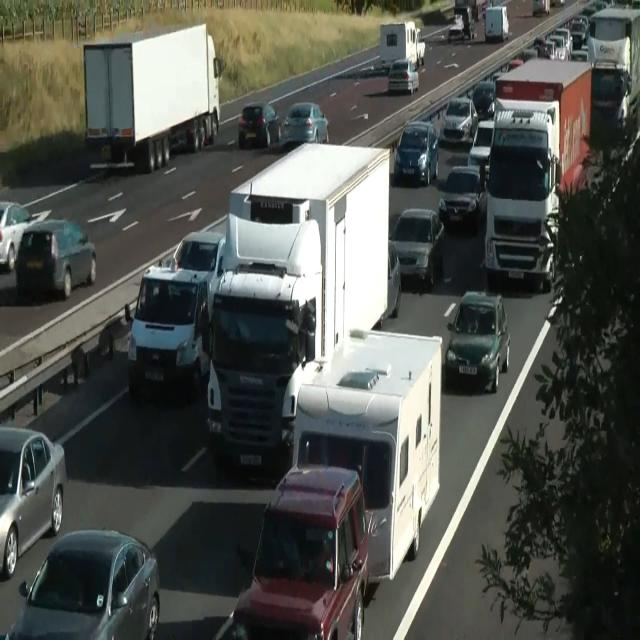bus: (5, 528, 161, 639), (0, 425, 67, 579), (444, 290, 510, 393), (389, 207, 445, 288), (0, 200, 51, 272), (438, 165, 486, 228), (394, 120, 438, 186), (280, 101, 329, 144), (237, 102, 279, 150), (440, 96, 478, 144), (468, 119, 494, 181), (385, 239, 401, 319), (387, 57, 419, 94), (471, 81, 495, 119), (492, 58, 524, 82), (569, 15, 589, 48), (448, 15, 464, 42), (506, 58, 524, 72)
car: (204, 213, 323, 472)
jeep: (230, 462, 372, 638), (124, 261, 208, 400), (15, 217, 96, 299), (170, 230, 224, 284)
minibus: (205, 140, 391, 473), (282, 328, 442, 583), (484, 57, 592, 291), (83, 22, 221, 172), (586, 4, 640, 138), (379, 20, 425, 70), (448, 4, 475, 41), (484, 5, 508, 42)
